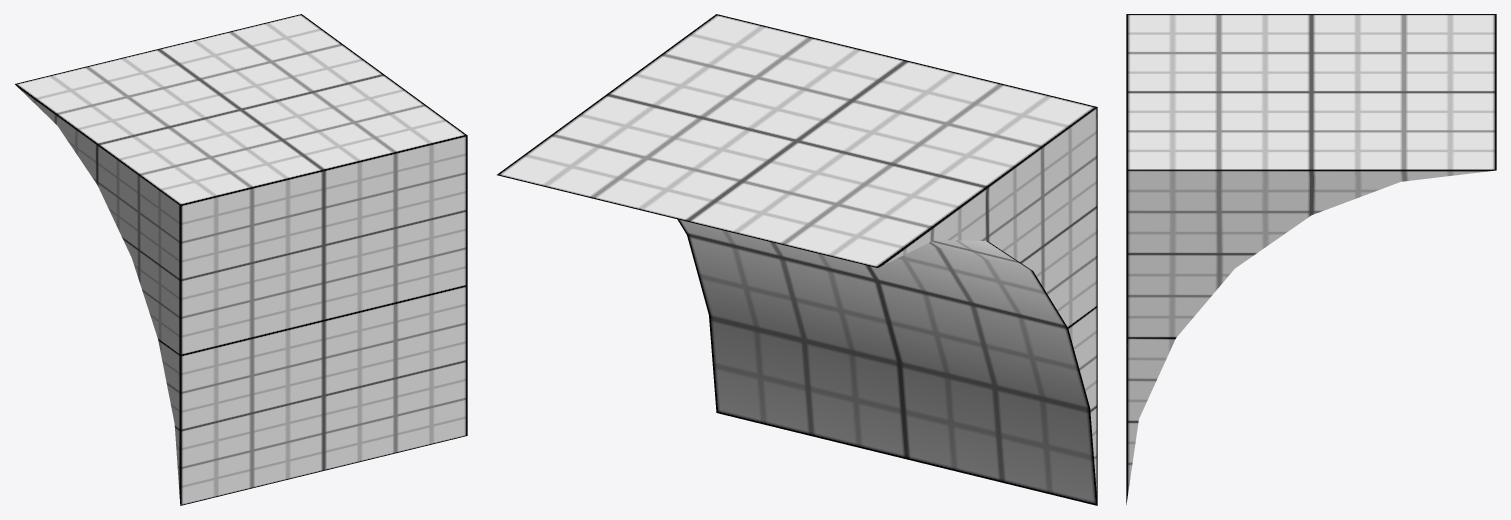
The model's file is arch-joint.fbx.
3 renders of one model, left to right at view 1: azimuth 30°, elevation 25°; view 2: azimuth 150°, elevation 25°; view 3: azimuth 270°, elevation 25°, orthographic. The views are drawn at different scales.
Parts seen in each view (by area): view 1: Zplus, Yplus, Xminus; view 2: Yplus, Yminus, Xminus; view 3: Yplus, Xplus.
Boxes of the visible parts, x1,y1,x2,y2 form: Zplus: (180, 135, 467, 505); Yplus: (15, 14, 466, 205); Xminus: (16, 85, 180, 503); Yplus: (497, 14, 1096, 267); Yminus: (677, 219, 1097, 505); Xminus: (878, 107, 1097, 503); Yplus: (1126, 14, 1496, 170); Xplus: (1126, 170, 1495, 504).
Size of the model in its own units: 100 by 100 by 100.
